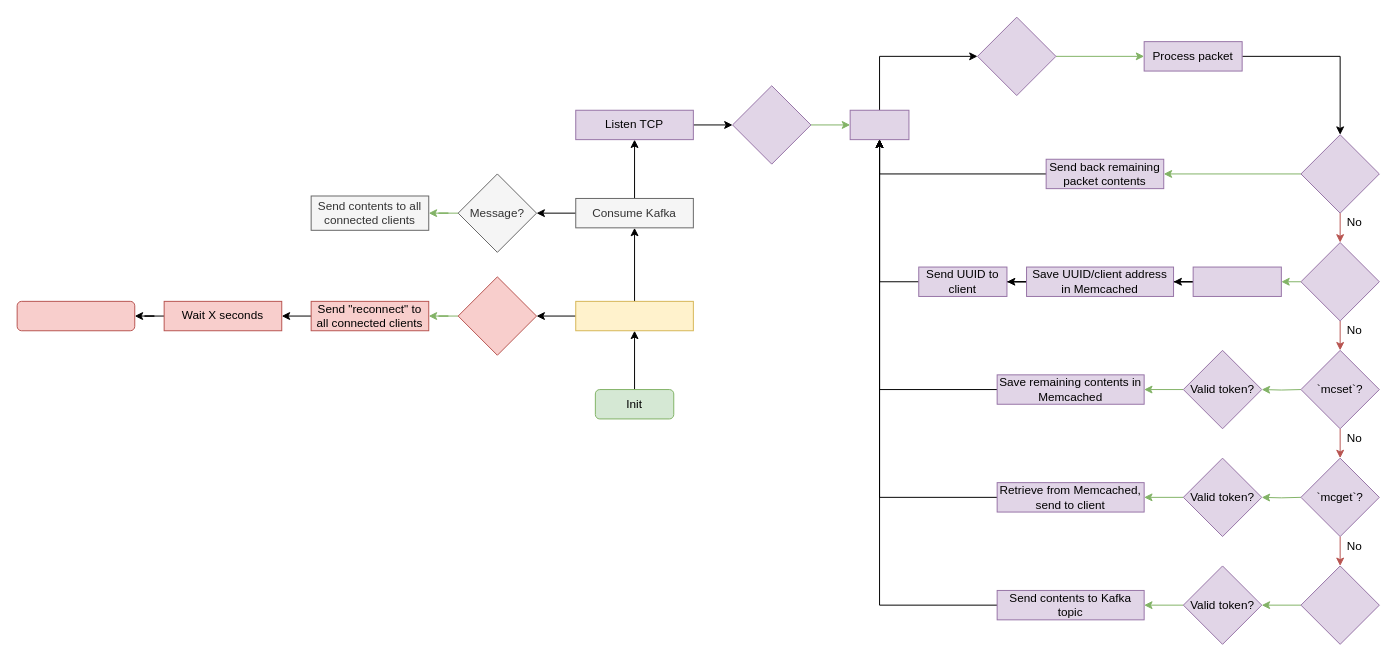
The diagram is 1397 pixels wide and 662 high, and some of its shapes have lost their labels. Each missing label, with the centre of its shape:
`brd`?: the point at 1339,604
`login`?: the point at 1339,281
`msg`?: the point at 1339,173
Cancel context: the point at 75,315
Create UUID: the point at 1236,281
Listen process signals: the point at 634,315
New connection: the point at 771,124
Packet?: the point at 1016,56
Read: the point at 879,124
SIGTERM: the point at 497,315
